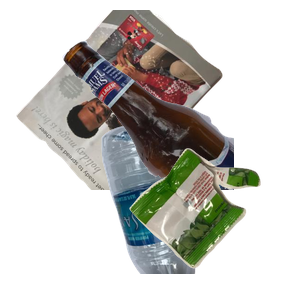glass: (60, 38, 300, 218)
paper: (14, 10, 229, 190)
plastic: (99, 120, 289, 300)
trash: (127, 146, 300, 300)
